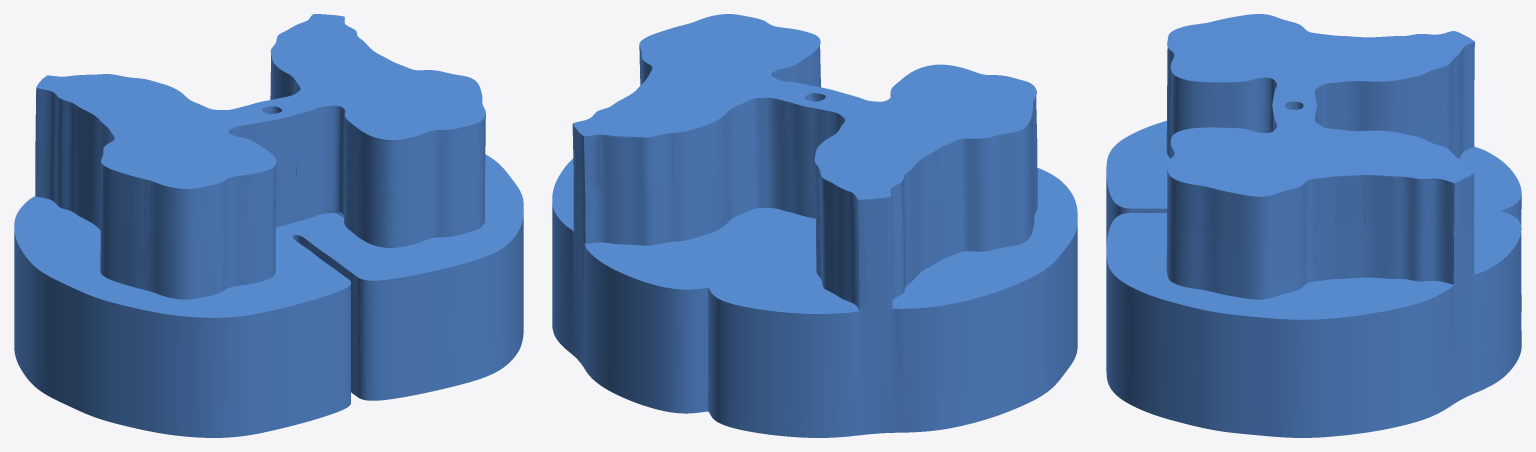
Rendered from 3DPX-023485.glb.
The picture shows the model from 3 angles, left to right: view 1: azimuth 30°, elevation 25°; view 2: azimuth 150°, elevation 25°; view 3: azimuth 270°, elevation 25°; orthographic projection. The views are drawn at different scales.
Visible parts, largest first — view 1: lumbar_spinal_cord_segment-repaired-nih3d; view 2: lumbar_spinal_cord_segment-repaired-nih3d; view 3: lumbar_spinal_cord_segment-repaired-nih3d.
Boxes of the visible parts, bbox=[...] form: lumbar_spinal_cord_segment-repaired-nih3d: bbox=[14, 14, 523, 437]; lumbar_spinal_cord_segment-repaired-nih3d: bbox=[552, 14, 1077, 437]; lumbar_spinal_cord_segment-repaired-nih3d: bbox=[1106, 14, 1521, 437].
Bounding box in the file's own units: 32.84 × 15.92 × 26.41.
